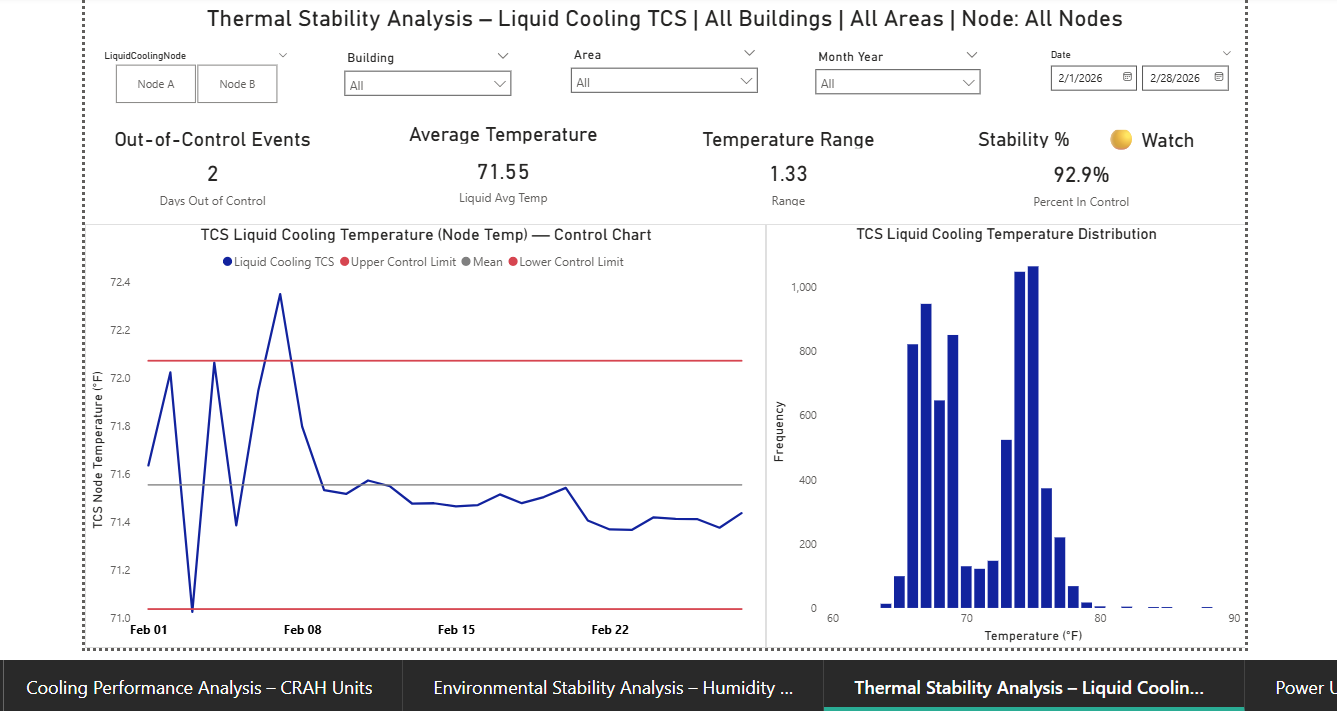

The page's visual inventory and layout, read from the dashboard file:
{"tool":"powerbi","page":{"name":"Thermal Stability Analysis – Liquid Cooling TCS","canvas":[1280,720],"ordinal":3},"visuals":[{"type":"slicer","fields":{"Values":["DimTag.LiquidCoolingNode"]},"box":[8,54,228,70],"z":0},{"type":"slicer","fields":{"Values":["Facts.Building"]},"box":[276,54,204,70],"z":1000},{"type":"slicer","fields":{"Values":["Facts.Area"]},"box":[526,52,226,70],"z":2000},{"type":"slicer","fields":{"Values":["DimDateTime.Date"]},"box":[1053.3,52.3,225,70],"z":3000},{"type":"lineChart","title":"TCS Liquid Cooling Temperature (Node Temp) — Control Chart","fields":{"Category":["DimDateTime.Date"],"Y":["DimDateTime.Liquid_Temp_Selected","DimDateTime.UCL_Liquid","DimDateTime.CL_Liquid","DimDateTime.LCL_Liquid"]},"box":[0,252,752,468],"z":4000},{"type":"card","fields":{"Values":["DimDateTime.OutOfControl_Days_Liquid"]},"box":[64,170,152,66],"z":5000},{"type":"card","fields":{"Values":["DimDateTime.Avg_Liquid_Temp"]},"box":[402,168,118,68],"z":6000},{"type":"slicer","fields":{"Values":["DimDateTime.Month Year"]},"box":[796.7,53,201.7,70],"z":7000},{"type":"card","fields":{"Values":["DimDateTime.Pct_In_Control_Liquid"]},"box":[1042,172,116,66],"z":8000},{"type":"card","fields":{"Values":["DimDateTime.Dynamic_Title_Liquid"]},"box":[0,0,1280,46.7],"z":9000},{"type":"card","fields":{"Values":["_Measures.DOOC"]},"box":[26,140,228,32],"z":10000},{"type":"card","fields":{"Values":["_Measures.Avg CRAH"]},"box":[324,136,274,32],"z":11000},{"type":"card","fields":{"Values":["_Measures.Stability"]},"box":[972,142,128,30],"z":12000},{"type":"card","fields":{"Values":["DimDateTime.Liquid_Status"]},"box":[1094,142,166,32],"z":13000},{"type":"card","fields":{"Values":["_Measures.CRAH_Range_TXT"]},"box":[640,140,274,32],"z":14000},{"type":"card","fields":{"Values":["DimDateTime.Liquid_Temp_Range"]},"box":[718,170,118,66],"z":15000},{"type":"clusteredColumnChart","title":"TCS Liquid Cooling Temperature Distribution","fields":{"Y":["CountNonNull(Facts.Value)"],"Category":["Facts.CRAH (bins)"]},"box":[752,252,530,468],"z":16000}]}

Visuals, with their boxes on the page's 1280x720 design canvas (x1, y1, x2, y2). These are canvas units, not pixel positions in the 1337x711 screenshot, which may show the page scaled, cropped or inside an application window:
slicer - DimTag.LiquidCoolingNode: bbox(8, 54, 236, 124)
slicer - Facts.Building: bbox(276, 54, 480, 124)
slicer - Facts.Area: bbox(526, 52, 752, 122)
slicer - DimDateTime.Date: bbox(1053, 52, 1278, 122)
"TCS Liquid Cooling Temperature (Node Temp) — Control Chart" lineChart: bbox(0, 252, 752, 720)
card - DimDateTime.OutOfControl_Days_Liquid: bbox(64, 170, 216, 236)
card - DimDateTime.Avg_Liquid_Temp: bbox(402, 168, 520, 236)
slicer - DimDateTime.Month Year: bbox(797, 53, 998, 123)
card - DimDateTime.Pct_In_Control_Liquid: bbox(1042, 172, 1158, 238)
card - DimDateTime.Dynamic_Title_Liquid: bbox(0, 0, 1280, 47)
card - _Measures.DOOC: bbox(26, 140, 254, 172)
card - _Measures.Avg CRAH: bbox(324, 136, 598, 168)
card - _Measures.Stability: bbox(972, 142, 1100, 172)
card - DimDateTime.Liquid_Status: bbox(1094, 142, 1260, 174)
card - _Measures.CRAH_Range_TXT: bbox(640, 140, 914, 172)
card - DimDateTime.Liquid_Temp_Range: bbox(718, 170, 836, 236)
"TCS Liquid Cooling Temperature Distribution" clusteredColumnChart: bbox(752, 252, 1282, 720)
